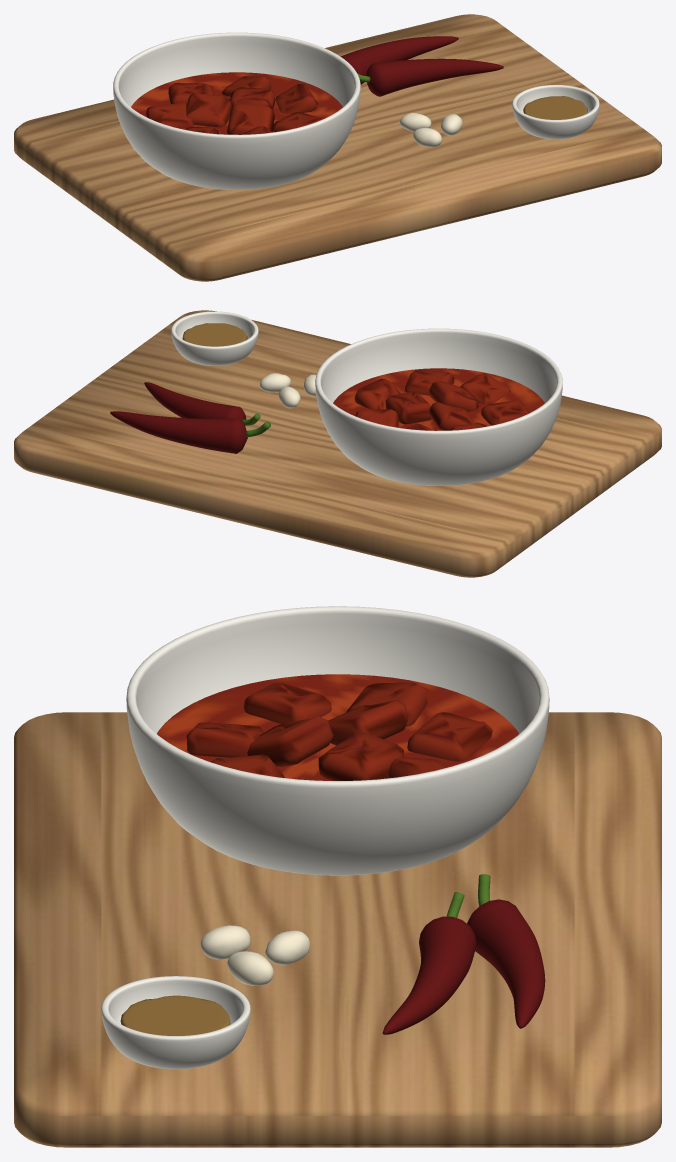
File: paso-2.glb
The picture shows the model from 3 angles, top to bottom: view 1: azimuth 30°, elevation 25°; view 2: azimuth 150°, elevation 25°; view 3: azimuth 270°, elevation 25°; orthographic projection. The views are drawn at different scales.
Visible parts, largest first — view 1: paso-2-0, paso-2-1, paso-2-2, paso-2-15, paso-2-20, paso-2-13, paso-2-11, paso-2-21, paso-2-12, paso-2-3, paso-2-6, paso-2-10 (+5 smaller); view 2: paso-2-0, paso-2-1, paso-2-13, paso-2-2, paso-2-20, paso-2-15, paso-2-21, paso-2-10, paso-2-8, paso-2-12, paso-2-3, paso-2-11 (+4 smaller); view 3: paso-2-0, paso-2-1, paso-2-2, paso-2-20, paso-2-13, paso-2-15, paso-2-21, paso-2-10, paso-2-5, paso-2-12, paso-2-7, paso-2-11 (+7 smaller).
Part boxes in pixels (left/top/right/bottom): paso-2-0: left=14, top=14, right=661, bottom=281; paso-2-1: left=113, top=32, right=360, bottom=190; paso-2-2: left=131, top=72, right=342, bottom=134; paso-2-15: left=366, top=58, right=503, bottom=96; paso-2-20: left=512, top=85, right=599, bottom=139; paso-2-13: left=340, top=36, right=458, bottom=84; paso-2-11: left=186, top=93, right=231, bottom=127; paso-2-21: left=523, top=96, right=587, bottom=119; paso-2-12: left=226, top=104, right=274, bottom=134; paso-2-3: left=275, top=84, right=317, bottom=114; paso-2-6: left=146, top=102, right=194, bottom=128; paso-2-10: left=230, top=87, right=274, bottom=108; paso-2-0: left=14, top=310, right=661, bottom=577; paso-2-1: left=315, top=328, right=562, bottom=486; paso-2-13: left=110, top=411, right=247, bottom=453; paso-2-2: left=333, top=368, right=544, bottom=430; paso-2-20: left=171, top=311, right=258, bottom=365; paso-2-15: left=144, top=382, right=246, bottom=420; paso-2-21: left=182, top=323, right=247, bottom=346; paso-2-10: left=385, top=392, right=431, bottom=424; paso-2-8: left=460, top=373, right=510, bottom=404; paso-2-12: left=429, top=381, right=478, bottom=411; paso-2-3: left=354, top=379, right=400, bottom=409; paso-2-11: left=429, top=402, right=474, bottom=430; paso-2-0: left=14, top=712, right=661, bottom=1147; paso-2-1: left=126, top=606, right=549, bottom=875; paso-2-2: left=157, top=674, right=518, bottom=780; paso-2-20: left=101, top=976, right=250, bottom=1069; paso-2-13: left=467, top=899, right=545, bottom=1028; paso-2-15: left=382, top=916, right=476, bottom=1034; paso-2-21: left=120, top=995, right=230, bottom=1035; paso-2-10: left=318, top=732, right=403, bottom=780; paso-2-5: left=407, top=712, right=492, bottom=761; paso-2-12: left=247, top=716, right=333, bottom=766; paso-2-7: left=243, top=683, right=331, bottom=724; paso-2-11: left=328, top=700, right=407, bottom=745.
Bounding box in the file's own units: 0.38 × 0.076 × 0.26.
8 materials, 1 textured.
